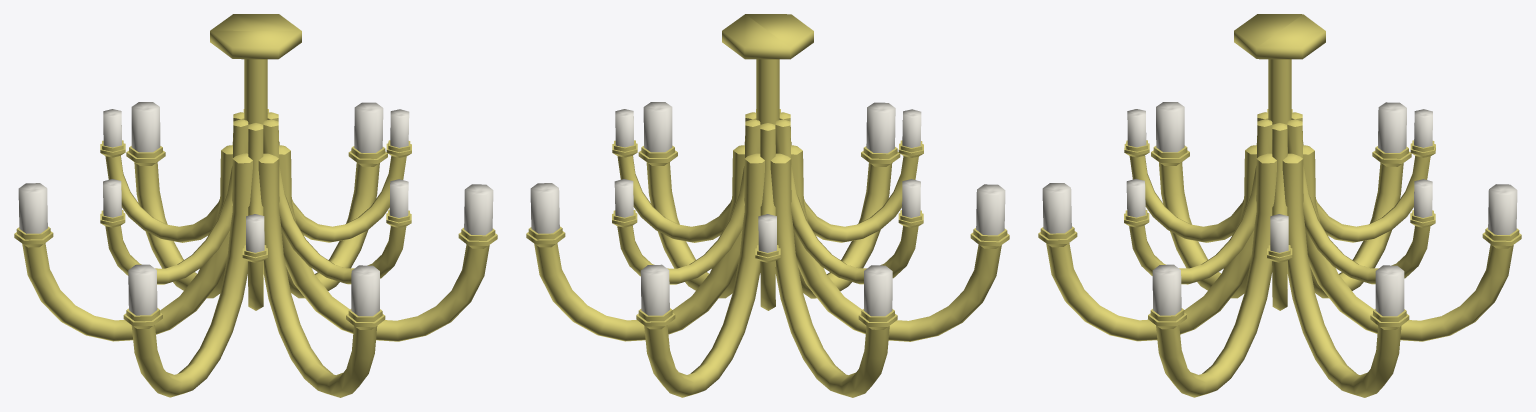
File: chandelier.fantasy.fbx
3 views of the same model, side by side, from view 1: azimuth 30°, elevation 25°; view 2: azimuth 150°, elevation 25°; view 3: azimuth 270°, elevation 25° (orthographic).
Visible parts, largest first — view 1: BézierCurve; view 2: BézierCurve; view 3: BézierCurve.
Boxes of the visible parts, bbox=[...] form: BézierCurve: bbox=[14, 14, 497, 397]; BézierCurve: bbox=[526, 14, 1009, 397]; BézierCurve: bbox=[1038, 14, 1521, 397].
Bounding box in the file's own units: 48.47 × 39.51 × 55.73.
